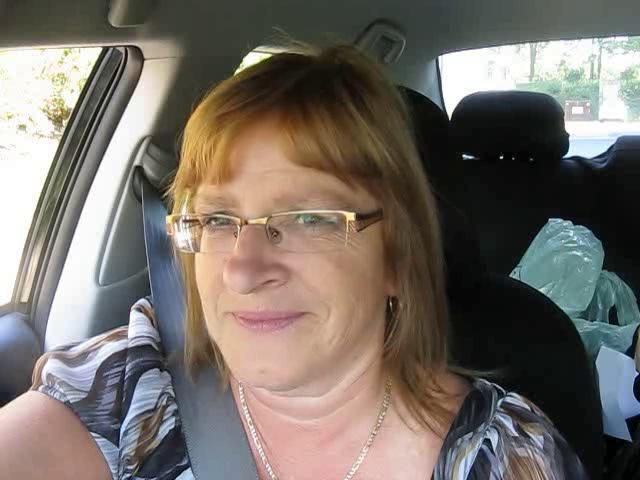no_yawn: (214, 297, 324, 348)
open_eyeL: (188, 203, 246, 245)
open_eyeR: (268, 202, 358, 248)
